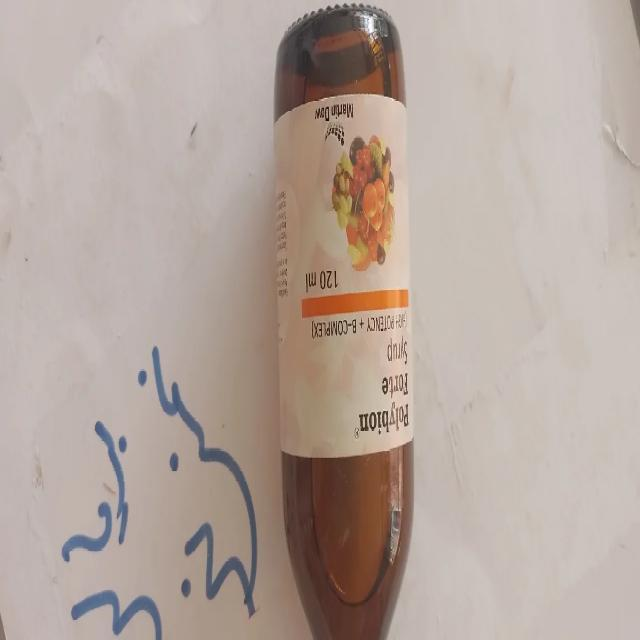drug-name: (352, 402, 413, 440)
